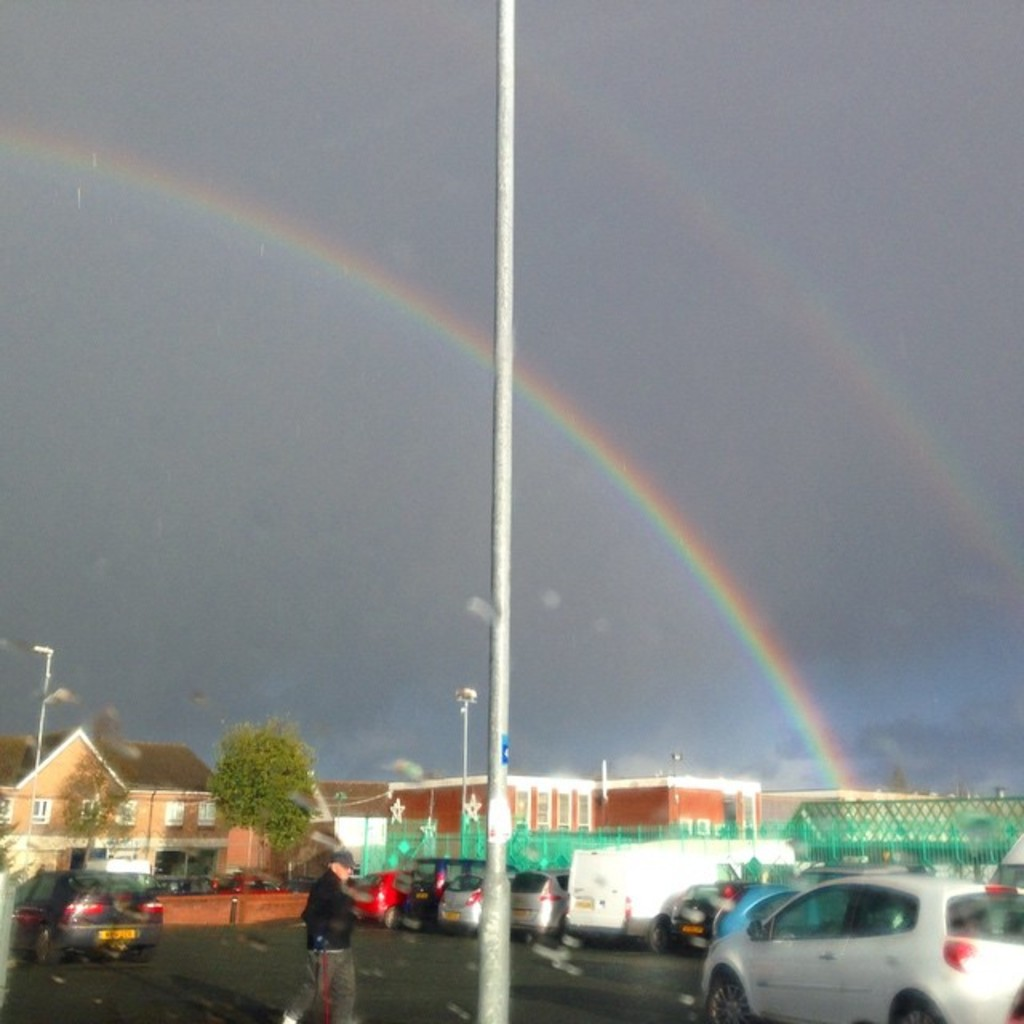Car: (694, 867, 1003, 1016), (12, 867, 155, 961), (672, 878, 793, 937), (508, 867, 566, 940), (438, 871, 484, 944)
